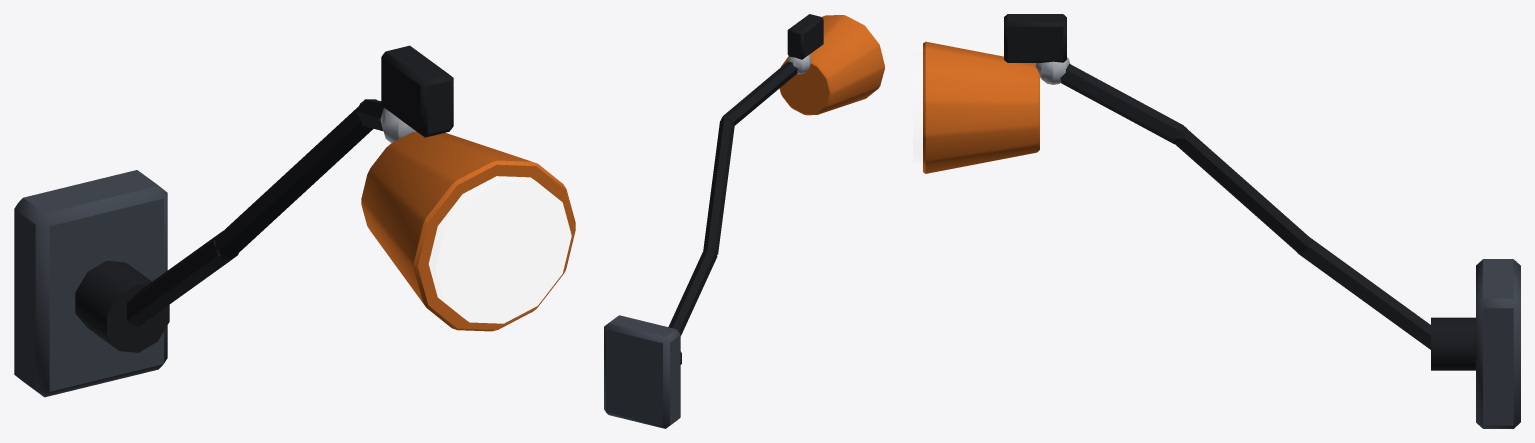
Rendered from spotlight_inspection_lamp_flex_arm.glb.
3 renders of one model, left to right at view 1: azimuth 30°, elevation 25°; view 2: azimuth 150°, elevation 25°; view 3: azimuth 270°, elevation 25°, orthographic. The views are drawn at different scales.
Parts seen in each view (by area): view 1: spotlight_inspection_lamp_flex_arm; view 2: spotlight_inspection_lamp_flex_arm; view 3: spotlight_inspection_lamp_flex_arm.
Boxes of the visible parts, <box> form: spotlight_inspection_lamp_flex_arm: <box>14,45,575,397</box>; spotlight_inspection_lamp_flex_arm: <box>604,14,884,428</box>; spotlight_inspection_lamp_flex_arm: <box>913,14,1520,428</box>.
Bounding box in the file's own units: 0.1473 × 0.48 × 0.676.
